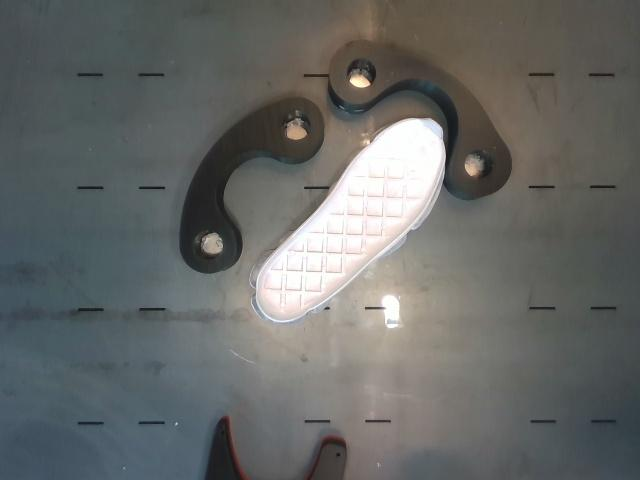shoes: (257, 118, 445, 321)
